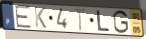4: (56, 8, 69, 31)
E: (14, 5, 33, 30)
G: (112, 10, 130, 35)
K: (33, 6, 48, 30)
L: (96, 9, 111, 33)
T: (73, 7, 87, 32)
